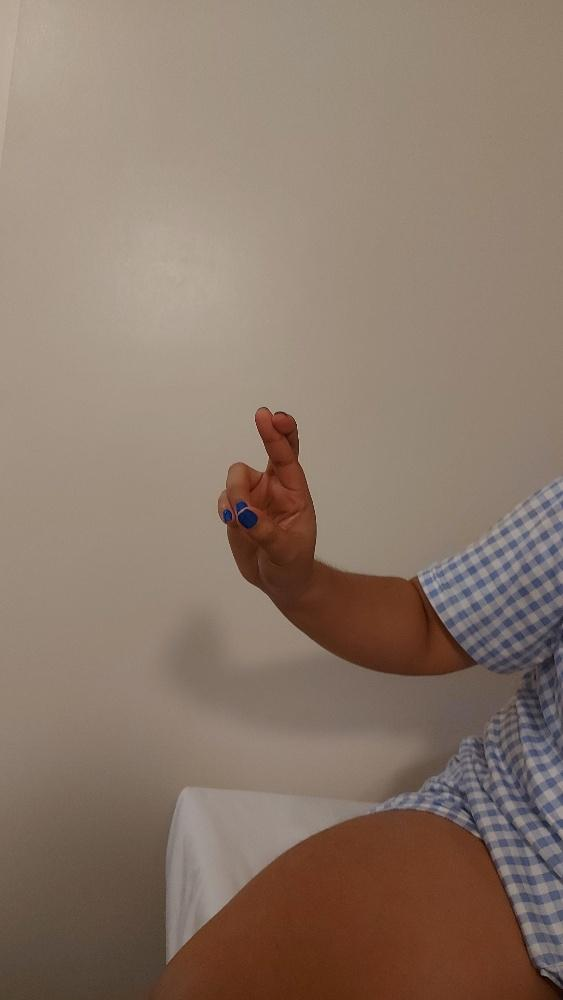r: (215, 404, 319, 591)
